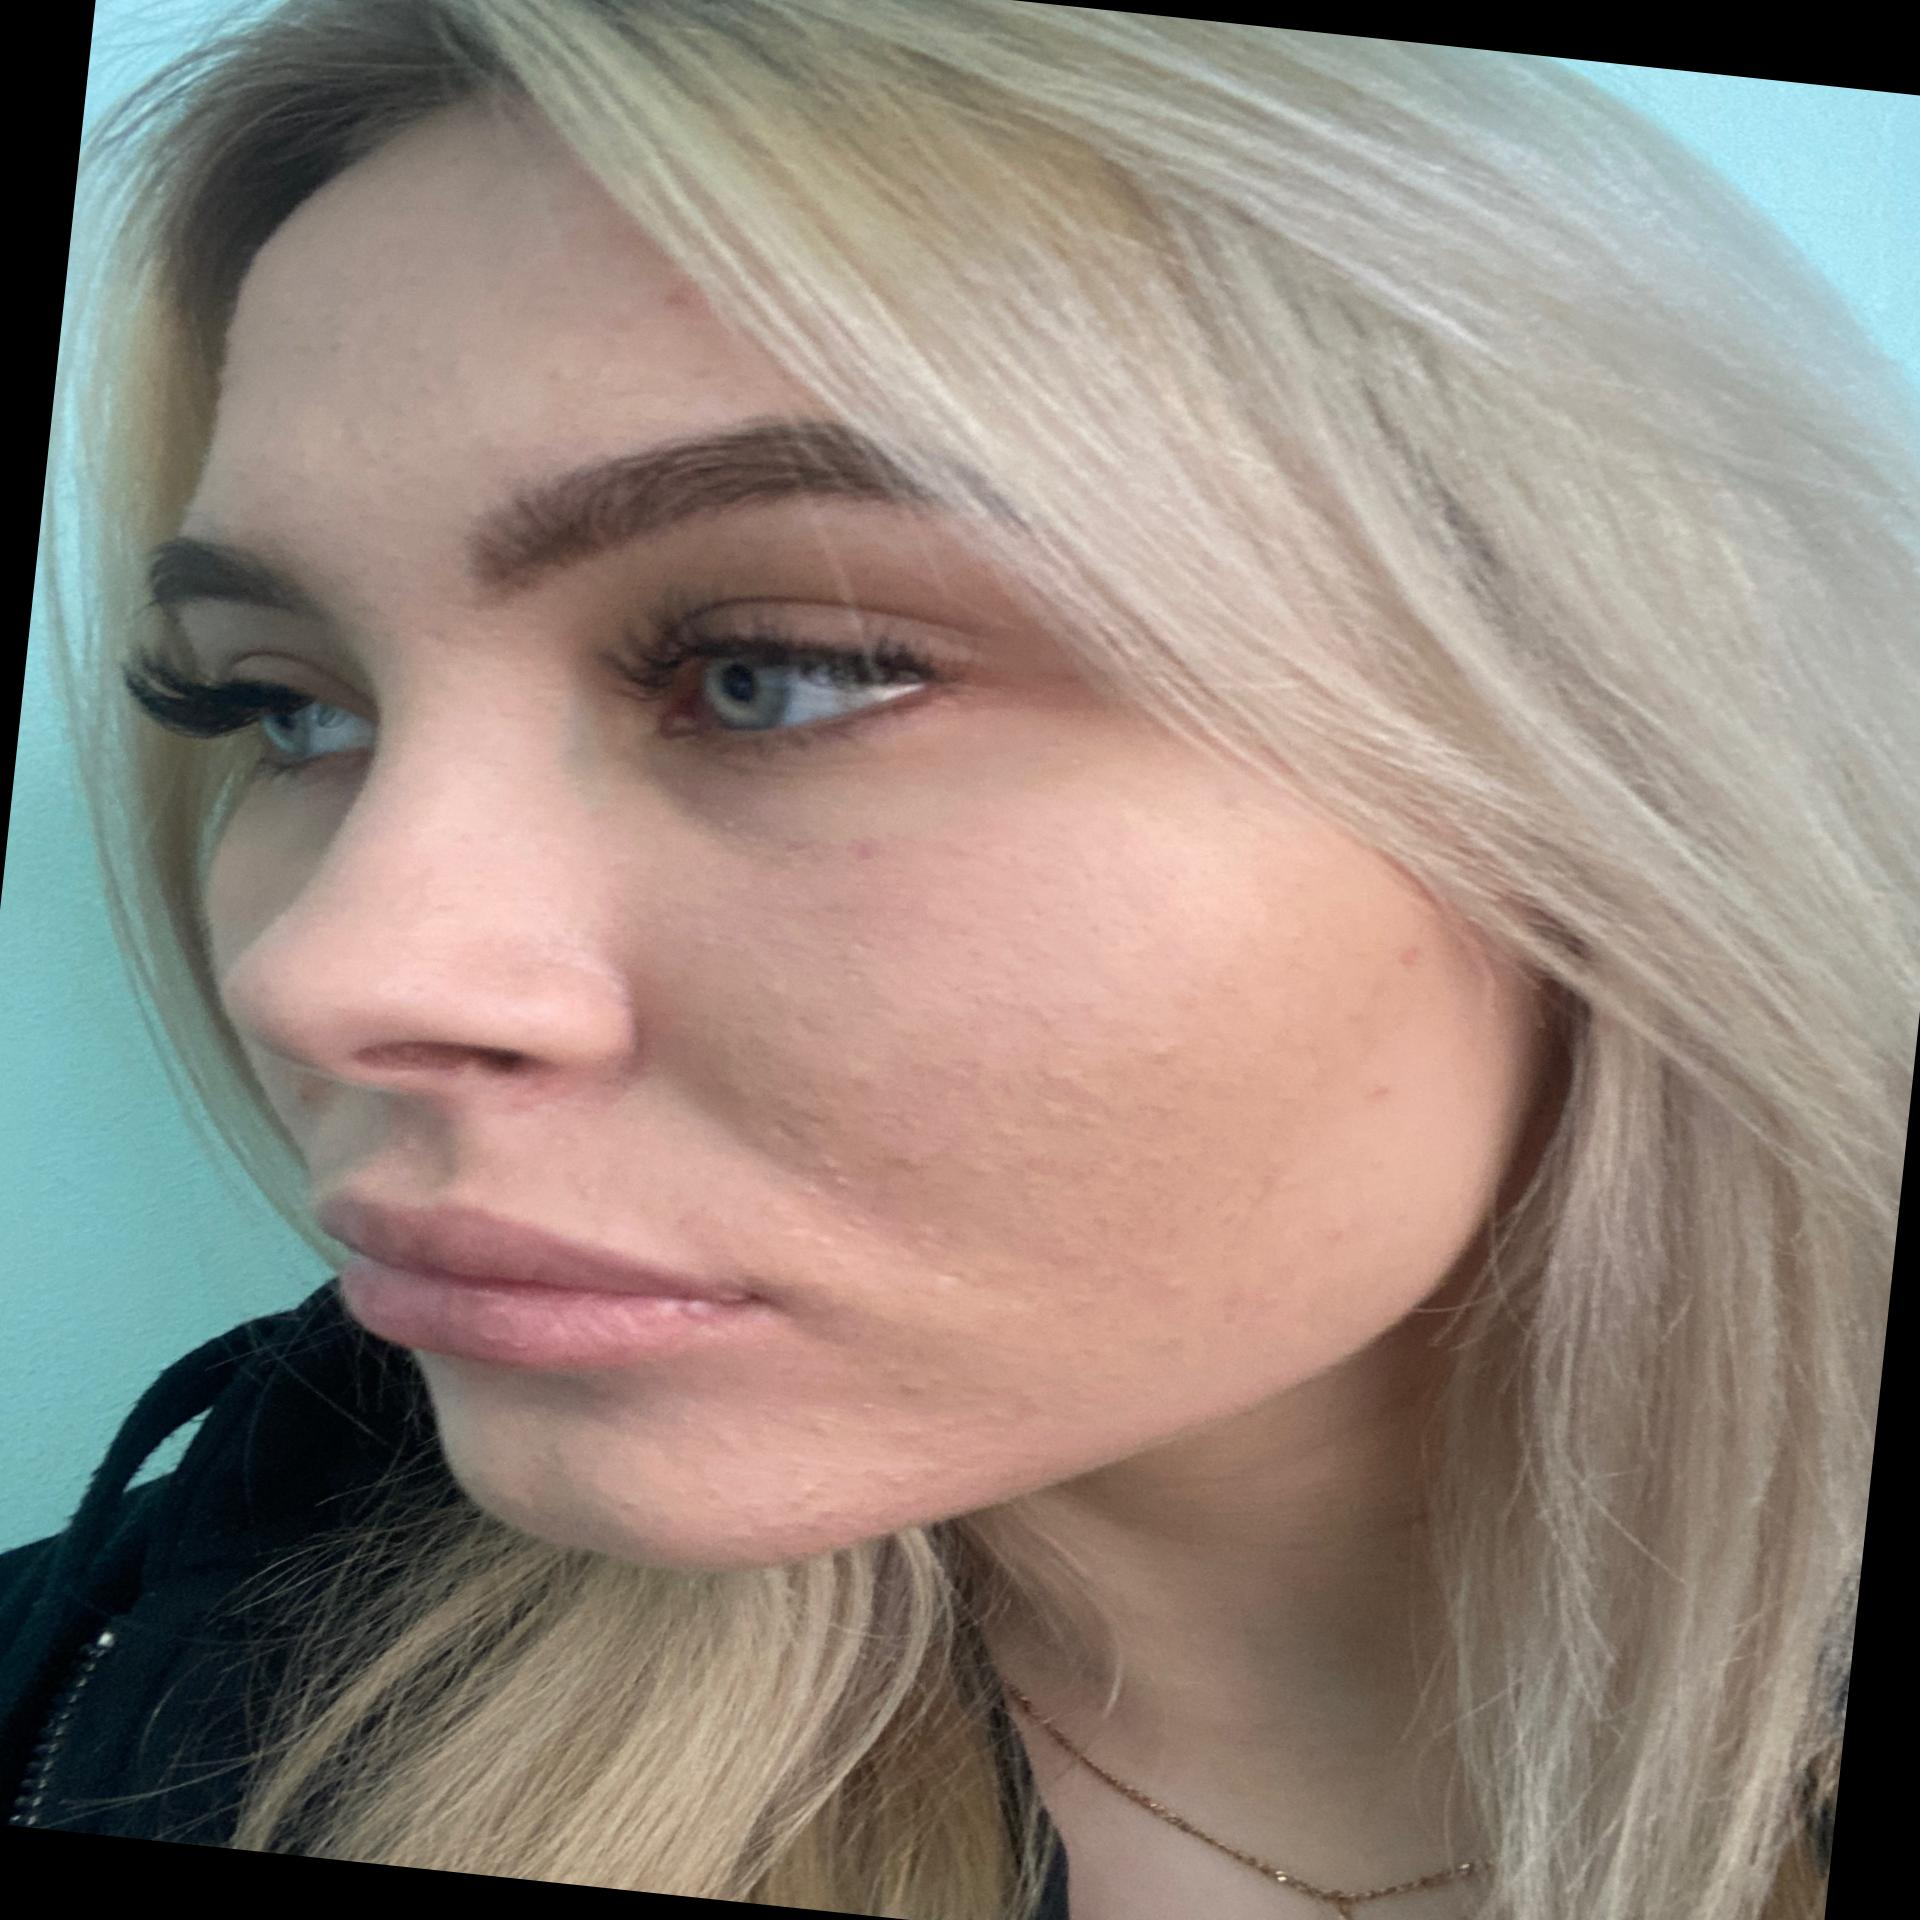Acne: (782, 1146, 883, 1264), (1013, 1055, 1145, 1143), (777, 1466, 855, 1553), (647, 278, 705, 324), (1375, 935, 1435, 978), (1354, 1067, 1407, 1111), (844, 830, 886, 865)
